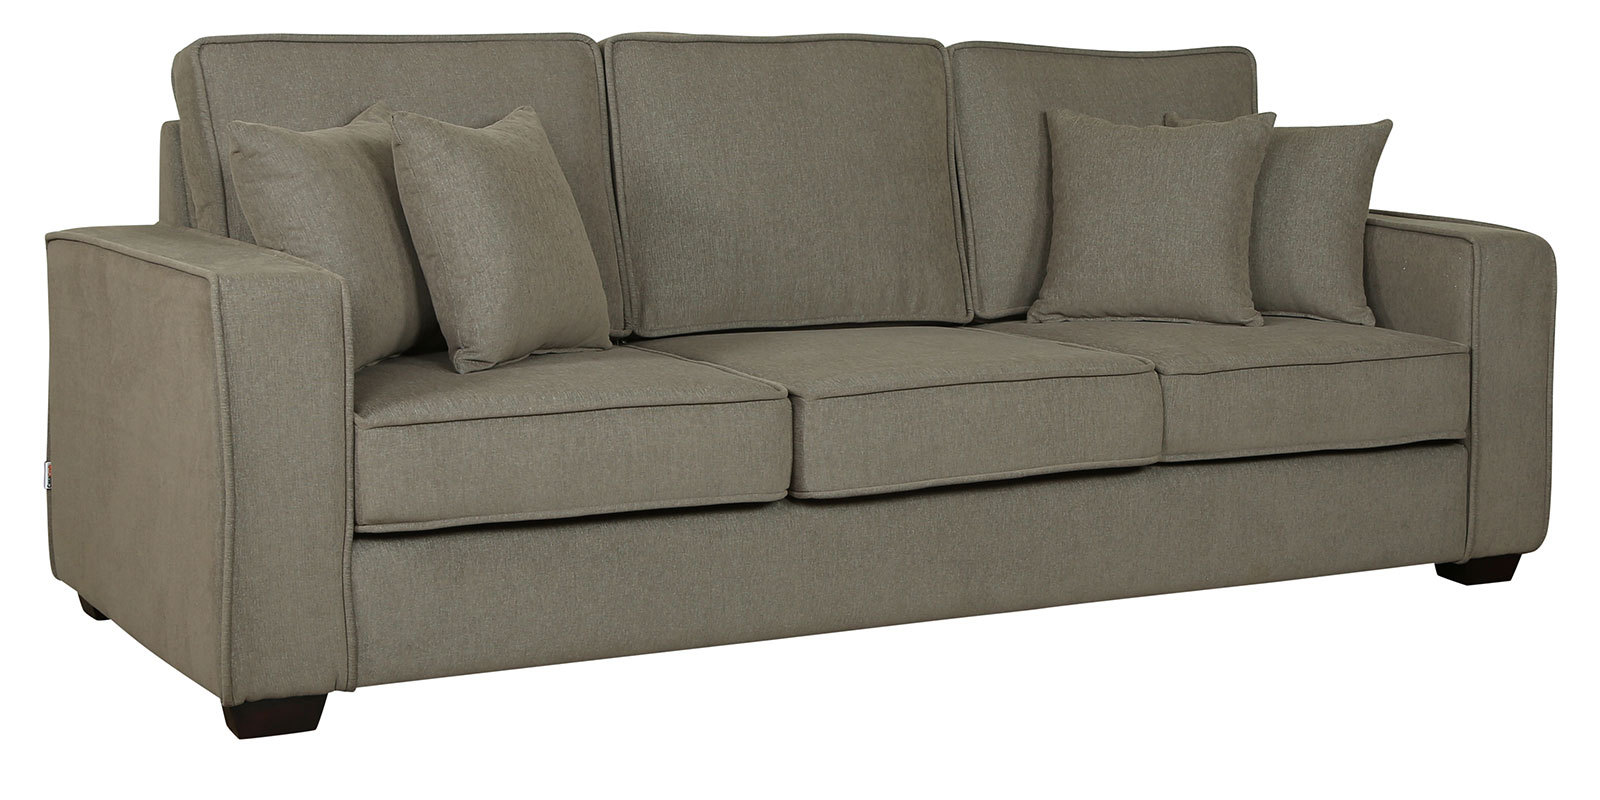Hugo Three Seater Sofa in Sandy Brown Colour by CasaCraft: (21, 24, 1600, 750)
